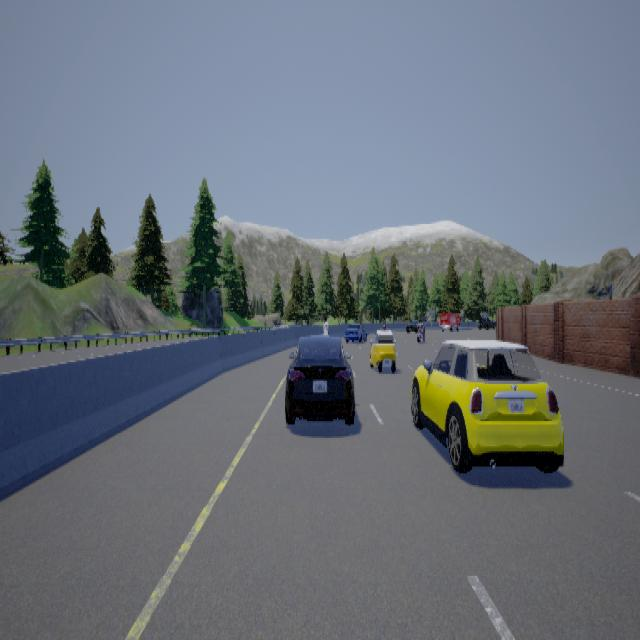vehicle: (410, 338, 563, 472), (284, 334, 354, 424), (369, 337, 395, 372), (438, 310, 464, 332), (343, 320, 365, 344), (403, 316, 425, 336)
